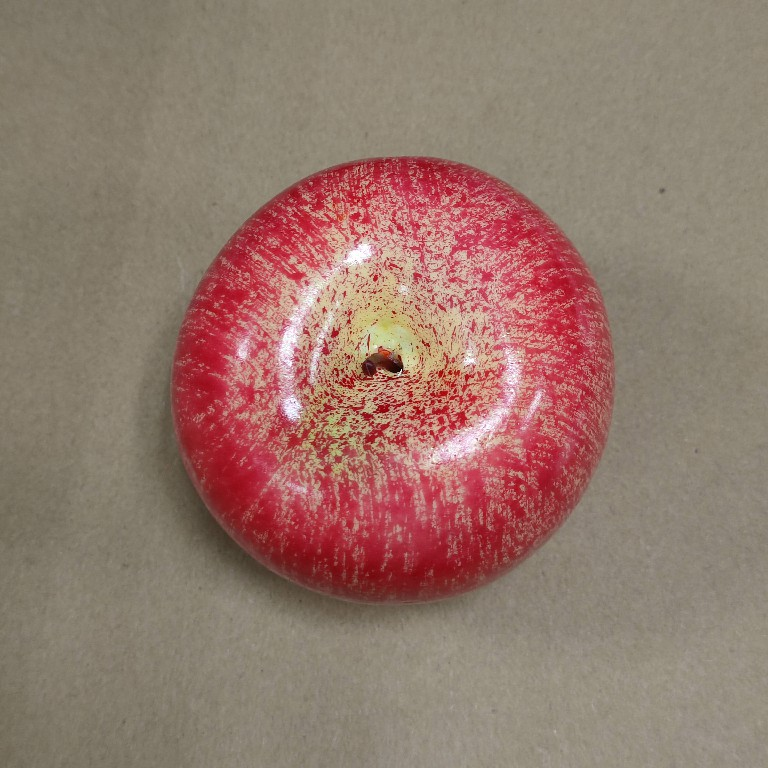fruit_apple: (159, 149, 621, 614)
